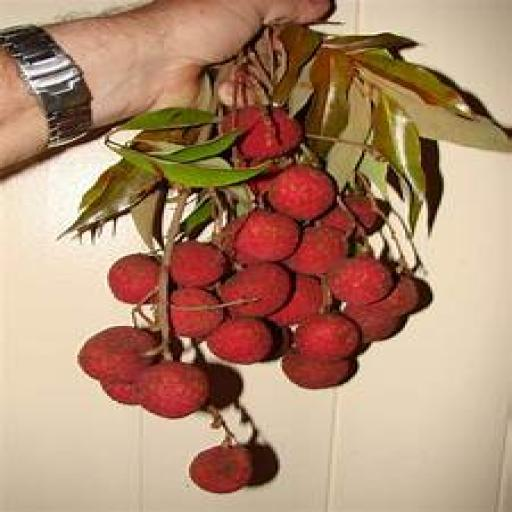lychee: (221, 106, 302, 162), (78, 326, 157, 382), (137, 362, 209, 418), (219, 263, 291, 317), (269, 164, 336, 220), (235, 210, 300, 261), (294, 313, 359, 361), (328, 256, 393, 303), (285, 226, 348, 274), (189, 446, 252, 493), (208, 318, 273, 363), (283, 352, 357, 389), (269, 275, 323, 325), (107, 253, 159, 303), (171, 287, 223, 337), (171, 241, 227, 286), (344, 303, 405, 343), (374, 275, 420, 315), (344, 193, 382, 233), (319, 205, 357, 237), (101, 381, 138, 404)
